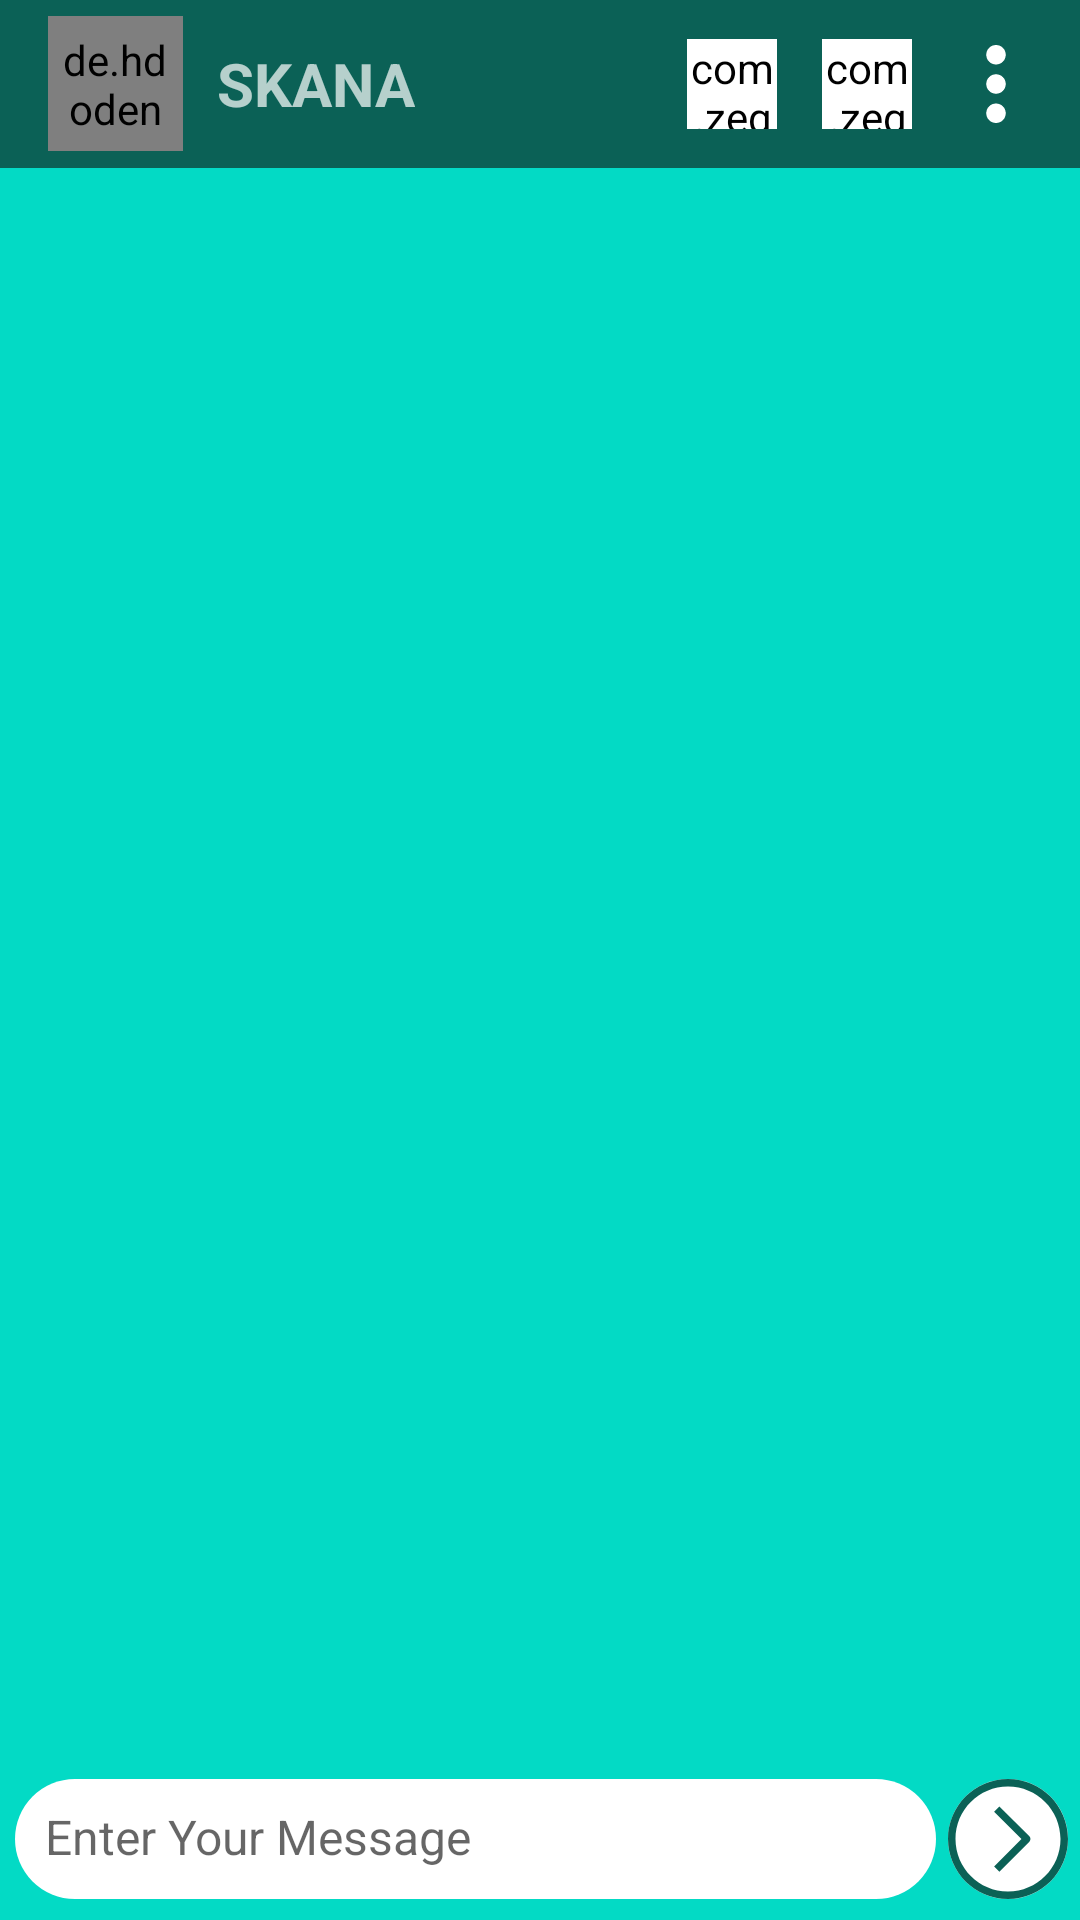

Named icons in this screenshot (1080x1920) and their bounding boxes, bbox(x1, y1, x2, y2):
menu: bbox(986, 45, 1006, 123)
rightarrow: bbox(948, 1779, 1068, 1899)
